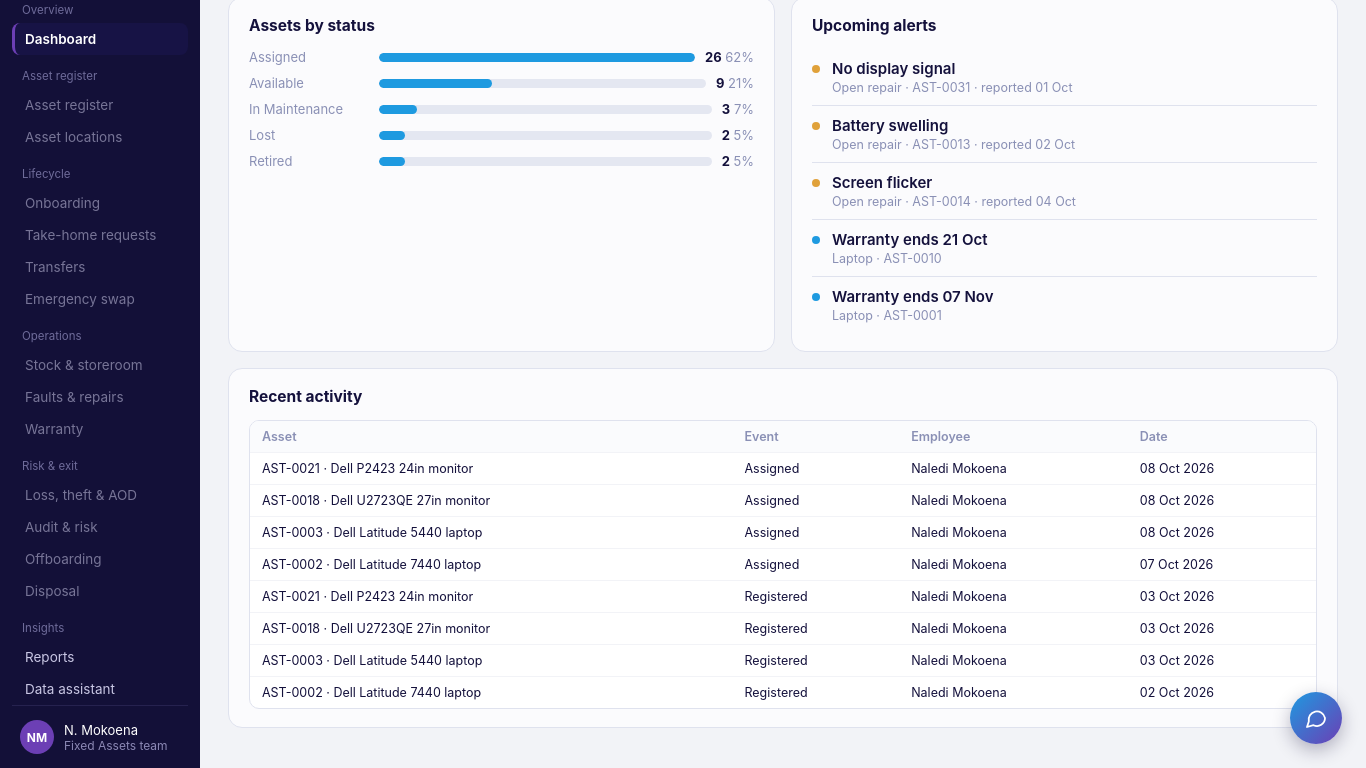
Test: App › lists what the assistant supports on its own page, with no floating bubble there
The image size is (1366, 768).
(page scrolled)
Step 1. Click the link "Data assistant" → (70, 689), box [25, 681, 115, 697]
(page scrolled)
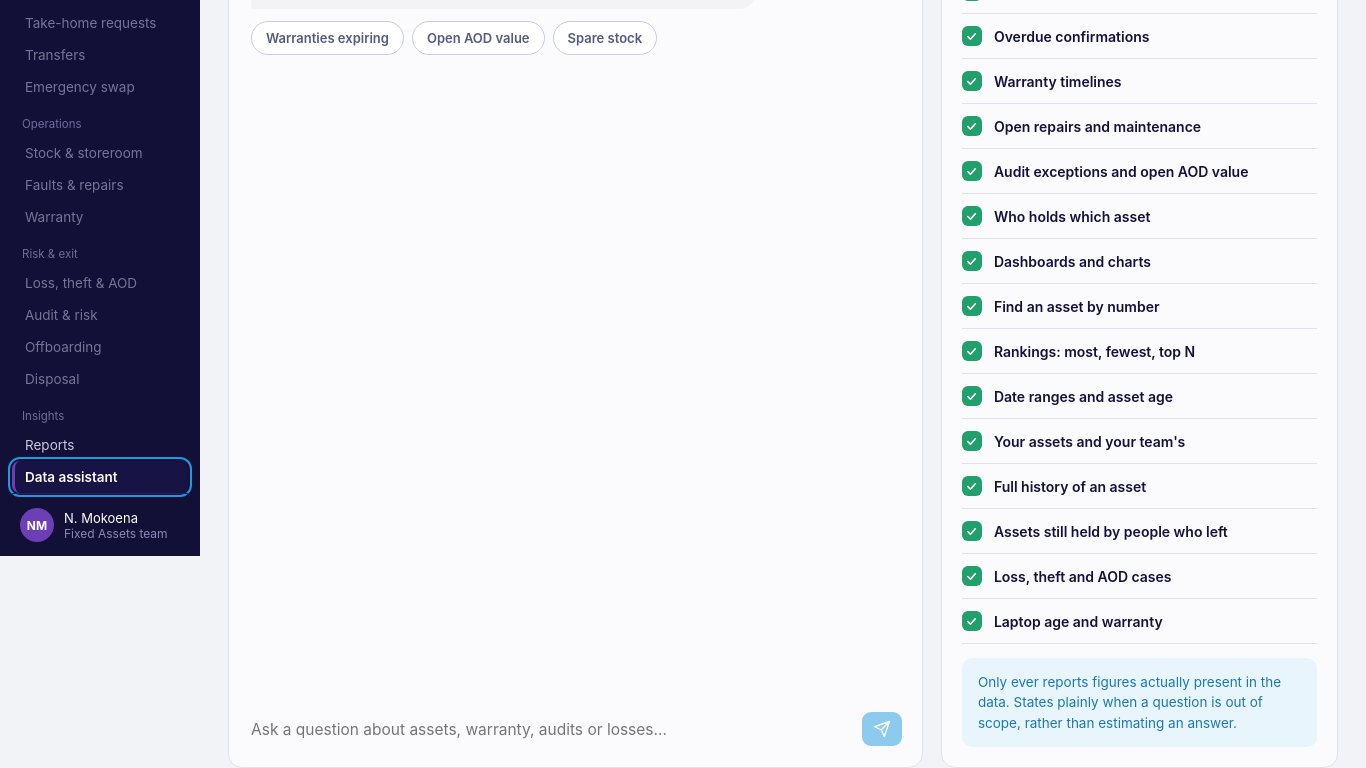
Expected: the text "Overdue confirmations" is shown, [994, 28, 1149, 44]
Expected: the text "Warranty timelines" is shown, [994, 72, 1122, 90]
Expected: the text "Open repairs and maintenance" is shown, [994, 118, 1201, 134]
